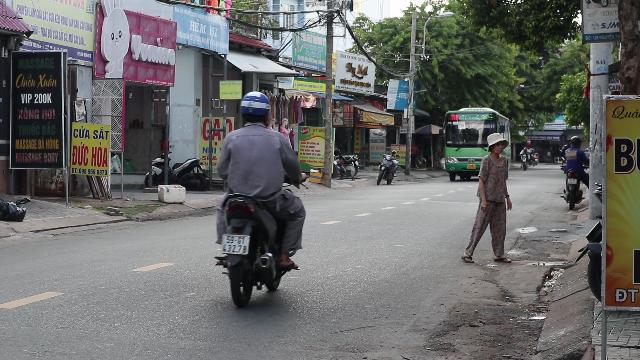helmet: (236, 91, 272, 125)
licenseplate: (222, 234, 248, 254)
motorcyclist: (208, 91, 308, 308)
